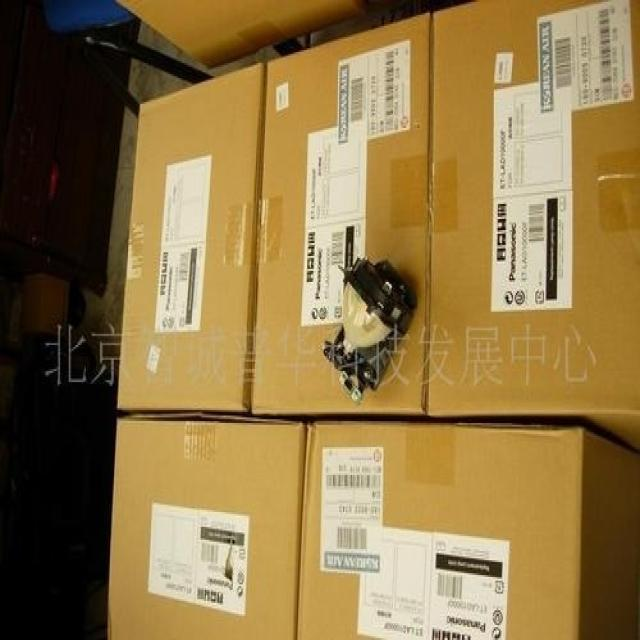box: (428, 0, 639, 449), (297, 419, 639, 640), (250, 13, 428, 416), (118, 65, 262, 410), (106, 416, 305, 640)
